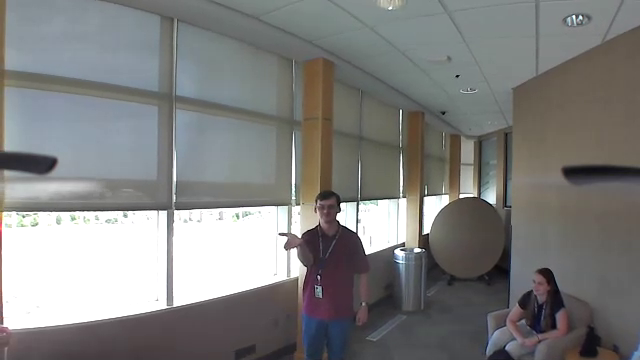land: (275, 229, 306, 254)
